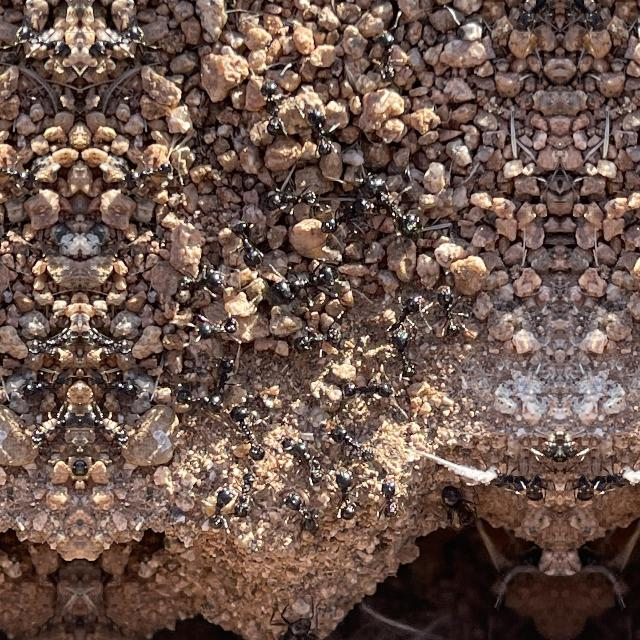Messor: (367, 175, 447, 239), (352, 25, 418, 99), (406, 276, 482, 332), (258, 186, 338, 237), (225, 219, 283, 287), (80, 22, 162, 64), (0, 22, 80, 63), (384, 326, 434, 386), (330, 418, 386, 464), (430, 477, 480, 528), (80, 402, 130, 452), (30, 402, 80, 452), (254, 603, 322, 639), (320, 190, 368, 238), (489, 466, 546, 506), (281, 432, 321, 488), (574, 466, 630, 506), (392, 294, 432, 346), (277, 322, 341, 354), (257, 78, 291, 134), (84, 328, 134, 362), (26, 328, 76, 362), (192, 314, 238, 350), (208, 358, 240, 404), (334, 464, 358, 520), (231, 401, 259, 447), (306, 106, 338, 146), (327, 382, 397, 400), (176, 391, 228, 415), (376, 480, 406, 520), (530, 432, 560, 472), (560, 432, 590, 472), (280, 488, 308, 528), (233, 472, 257, 518), (105, 378, 145, 399), (15, 378, 55, 399), (212, 477, 228, 529)
